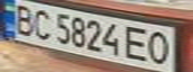2: (84, 17, 106, 54)
4: (100, 20, 124, 57)
5: (51, 11, 72, 45)
8: (66, 15, 87, 49)
B: (6, 1, 39, 36)
C: (27, 7, 57, 40)
E: (121, 25, 151, 62)
O: (145, 29, 175, 66)
